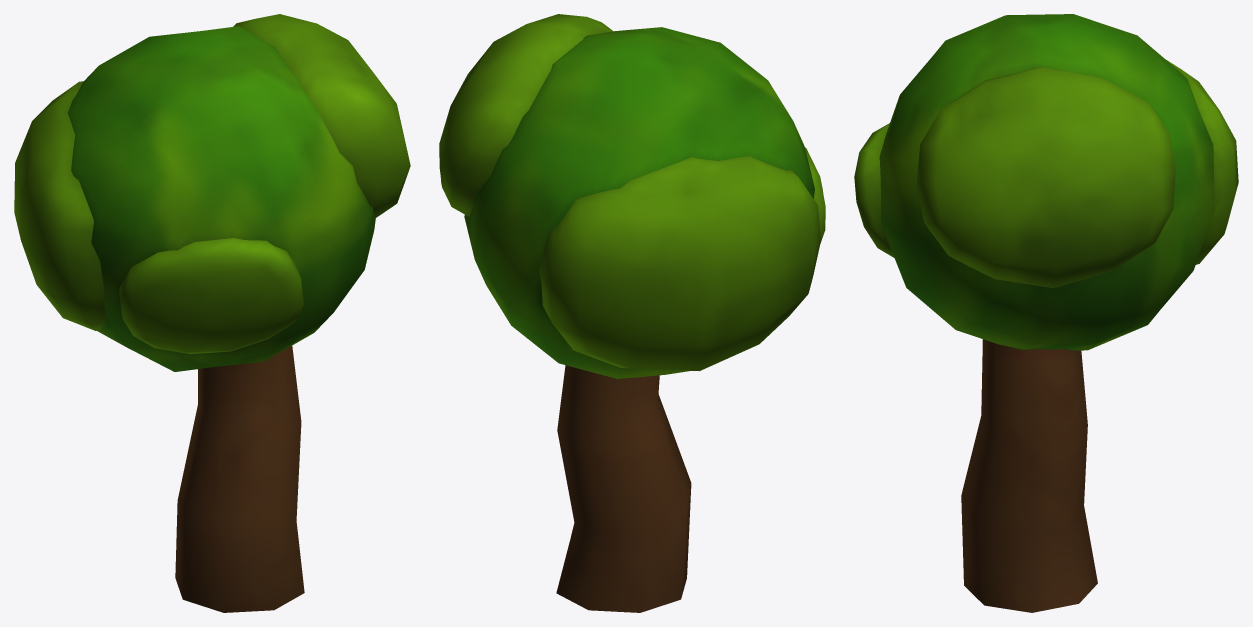
The model's file is TortoiseRescue_Ground_Deco_Tree01.glb.
3 renders of one model, left to right at view 1: azimuth 30°, elevation 25°; view 2: azimuth 150°, elevation 25°; view 3: azimuth 270°, elevation 25°, orthographic. The views are drawn at different scales.
Visible parts, largest first — view 1: TortoiseRescue_Ground_Deco_Tree_01; view 2: TortoiseRescue_Ground_Deco_Tree_01; view 3: TortoiseRescue_Ground_Deco_Tree_01.
Part boxes in pixels (box(x1,y1,x2,y2)): TortoiseRescue_Ground_Deco_Tree_01: box(14, 14, 410, 612); TortoiseRescue_Ground_Deco_Tree_01: box(439, 14, 825, 612); TortoiseRescue_Ground_Deco_Tree_01: box(854, 14, 1238, 612).
Size of the model in its own units: 1.79 by 2.69 by 1.71.
1 material, 1 textured.
